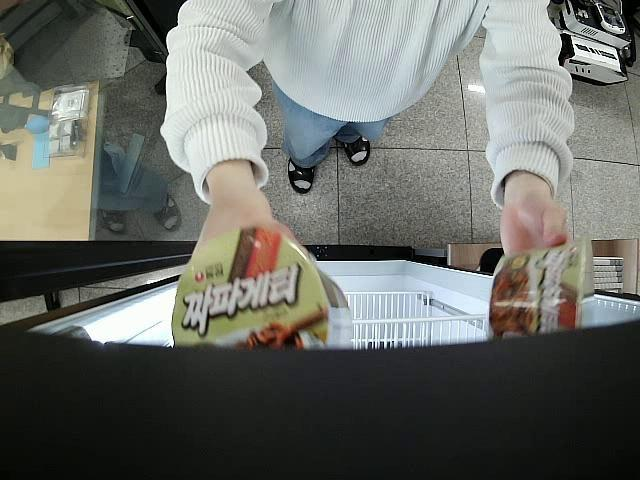03_chapagetti_L: (170, 222, 354, 354), (490, 239, 594, 338)
